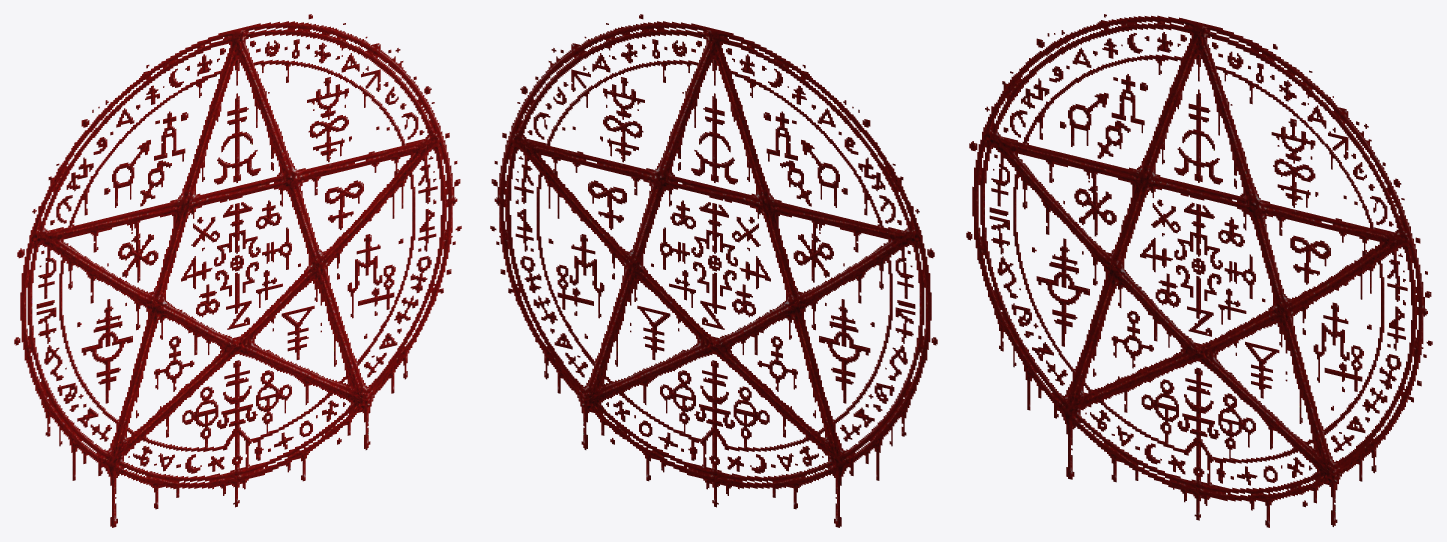
The model's file is blood_pentagram.glb.
The picture shows the model from 3 angles, left to right: view 1: azimuth 30°, elevation 25°; view 2: azimuth 150°, elevation 25°; view 3: azimuth 330°, elevation 25°; orthographic projection. The views are drawn at different scales.
Visible parts, largest first — view 1: Wall pentagram / 1.7m / render only; view 2: Wall pentagram / 1.7m / render only; view 3: Wall pentagram / 1.7m / render only.
Boxes of the visible parts, x1,y1,x2,y2 form: Wall pentagram / 1.7m / render only: [14, 14, 461, 527]; Wall pentagram / 1.7m / render only: [490, 14, 937, 527]; Wall pentagram / 1.7m / render only: [966, 14, 1432, 527].
Size of the model in its own units: 1.62 by 1.65 by 0.
1 material, 1 textured.
